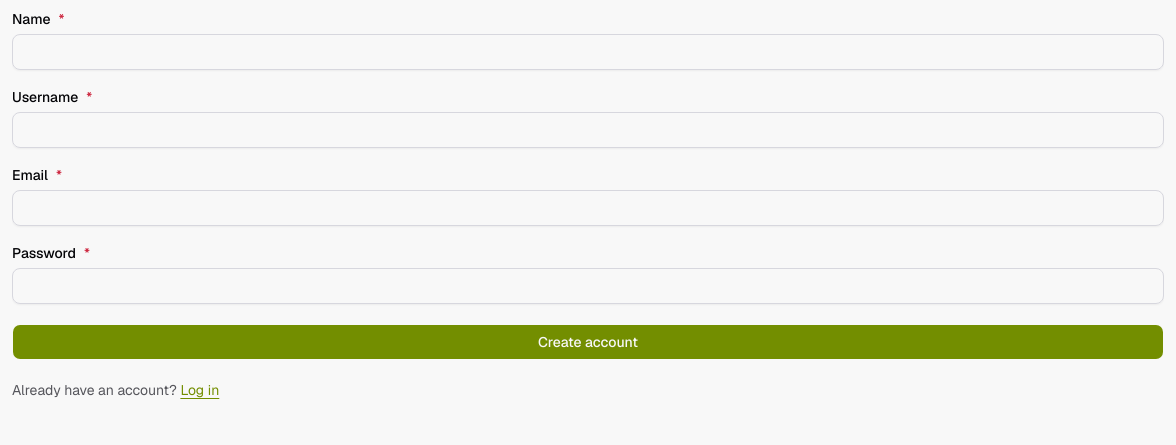
Scenario: SignUpForm › shows a server field error next to its field
Type "Ada" into the field labelled "Name *" at (588, 52), box [12,34,1164,70]
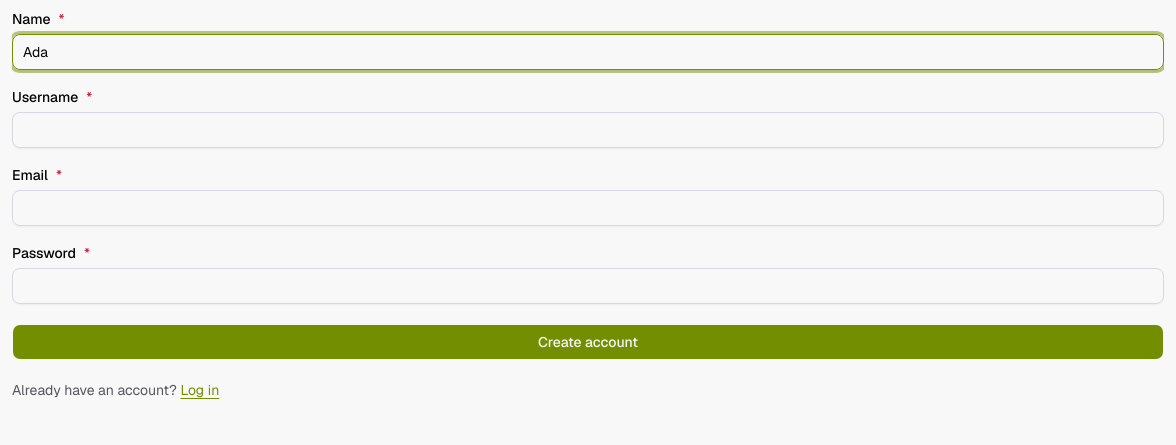
Type "ada" into the field labelled "Username *" at (588, 130), box [12,112,1164,148]
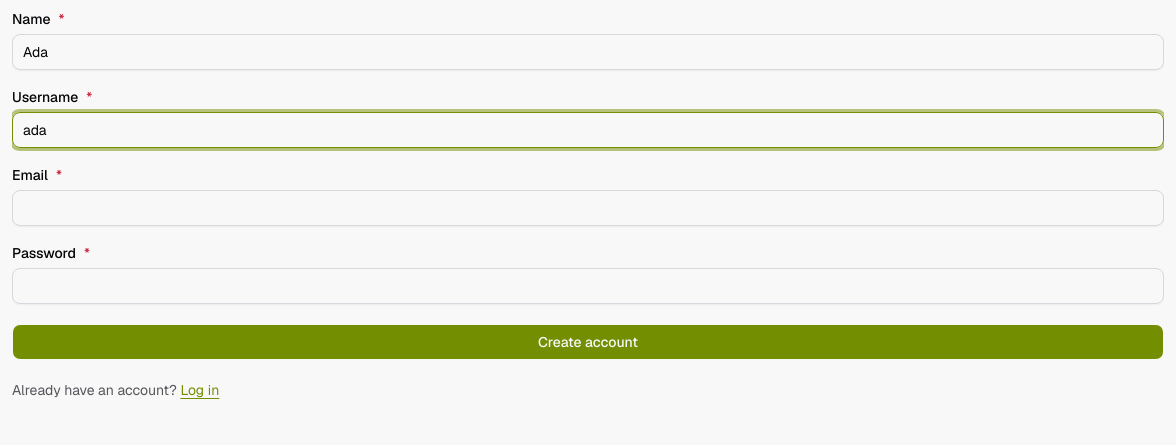
Type "ada@example.com" into the field labelled "Email *" at (588, 208), box [12,190,1164,226]
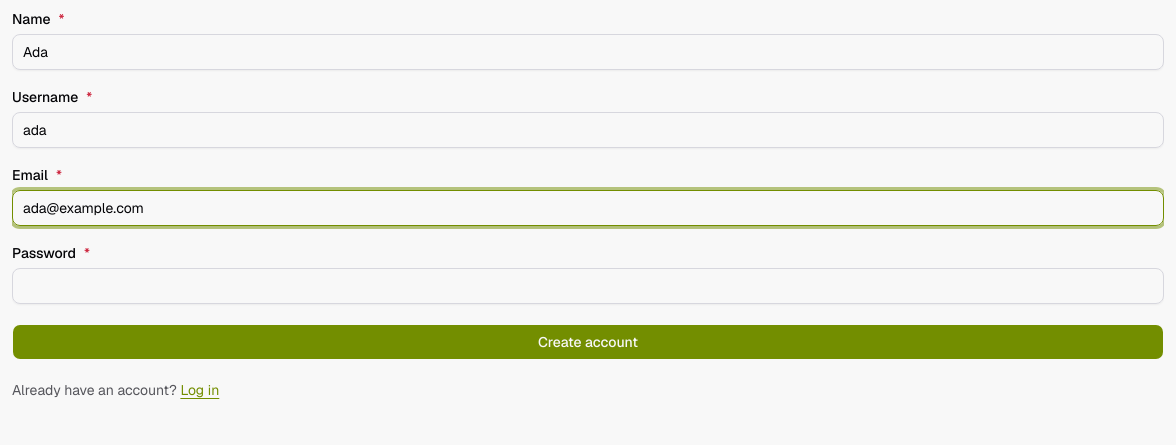
Type "long-enough-1" into the password field labelled "Password *" at (588, 286), box [12,268,1164,304]
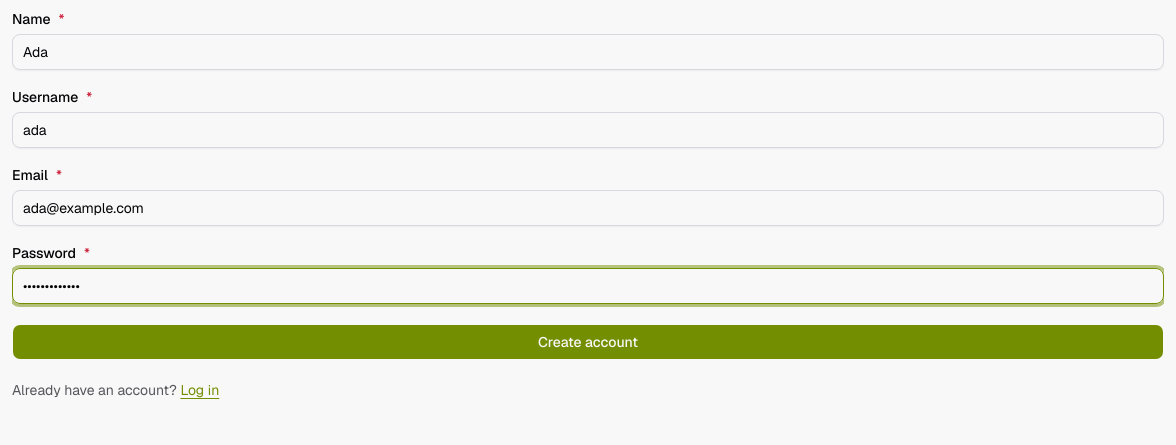
Click the button "Create account" at (588, 342), box [12,324,1164,360]
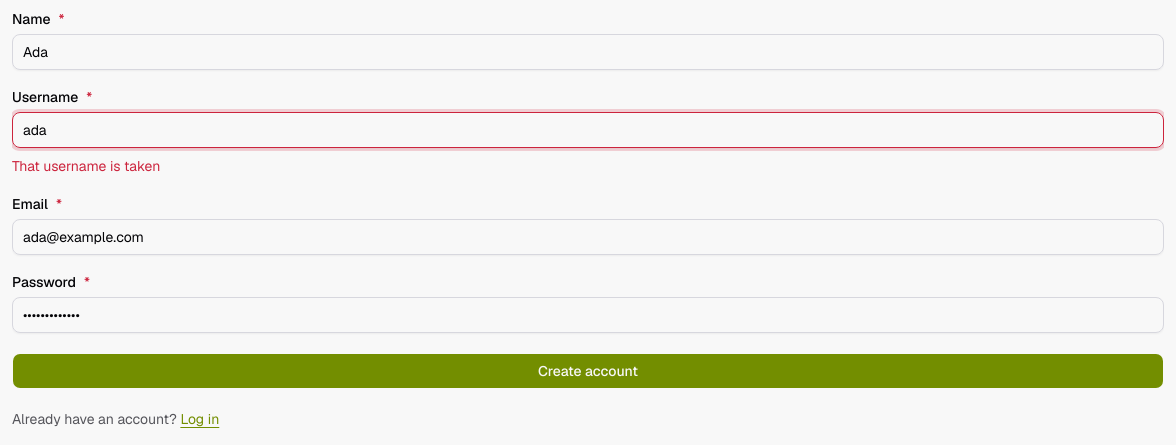
Result: the text "That username is taken" is shown at [12,157,160,175]
